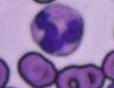N: (32, 3, 84, 56)
